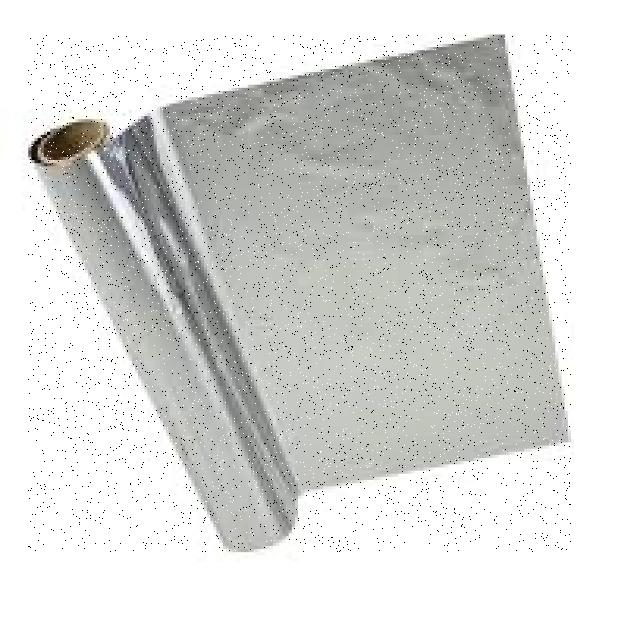metal: (28, 35, 571, 552)
